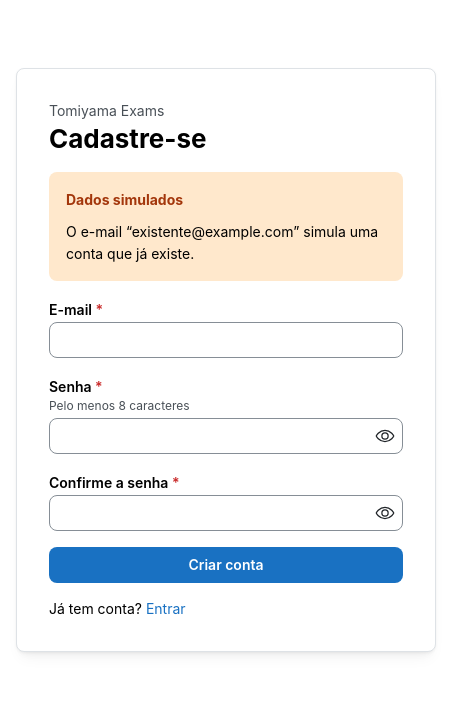
cadastro de responsável (§ 6.1): passo do e-mail e senha › valida {"email":"mae.example.com"} no cliente
This screenshot has width=453, height=724.
In the field labelled "E-mail *": (226, 340) [49,322,403,358], type "mae.example.com"
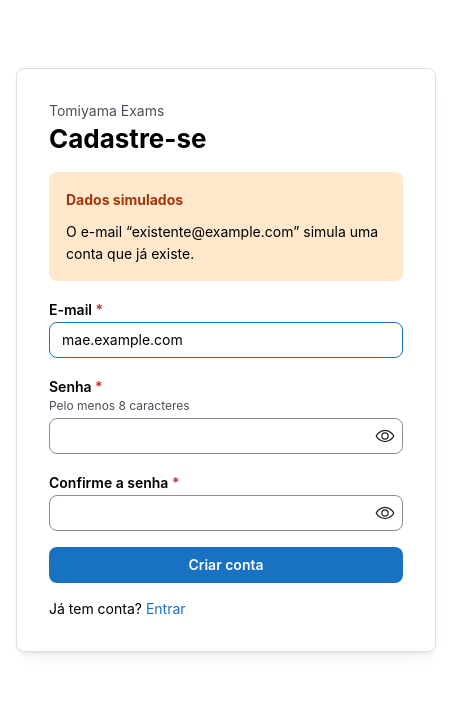
In the password field labelled "Senha *": (226, 436) [50,419,402,453], type "senha-forte-1"
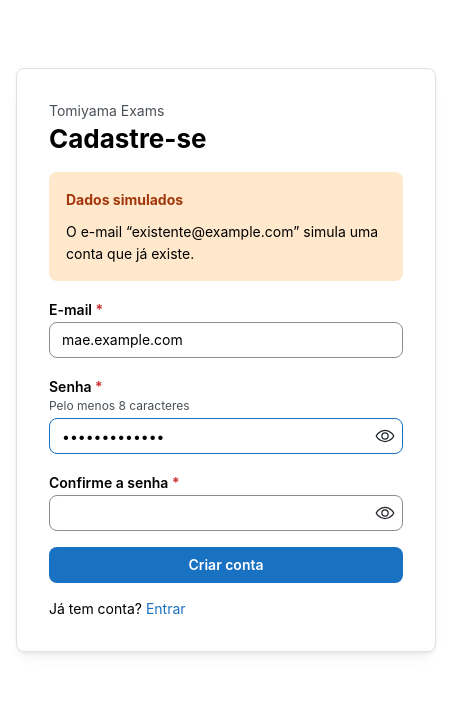
In the password field labelled "Confirme a senha *": (226, 513) [50,496,402,530], type "senha-forte-1"
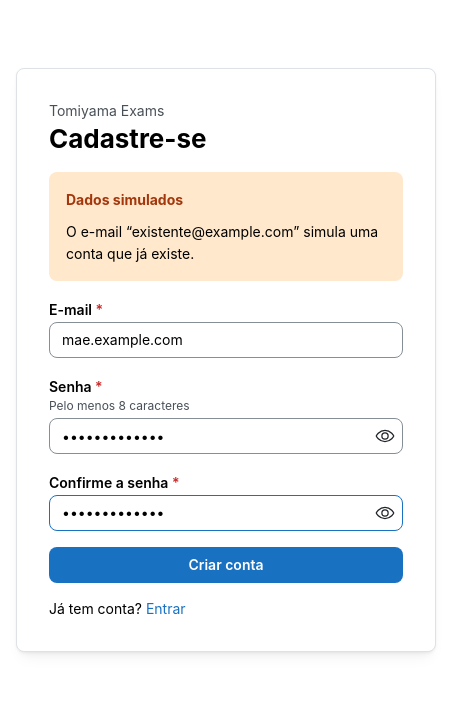
Click the button "Criar conta": (226, 565) [49,547,403,583]
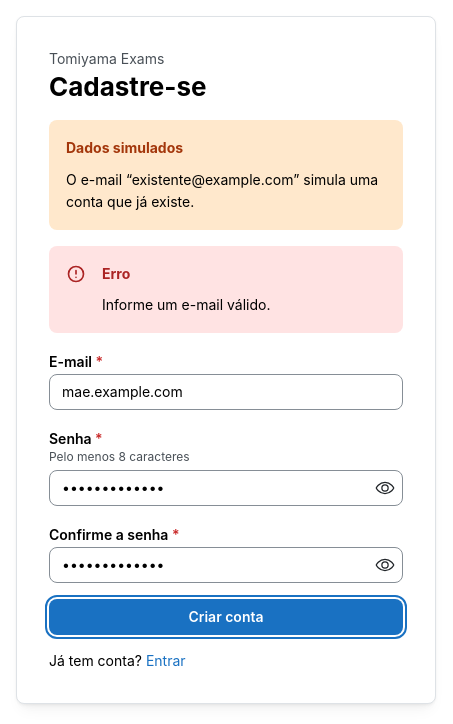
Expected: the heading "Cadastre-se" is shown, [49,71,207,102]
Expected: the message shows "Informe um e-mail válido.", [102,296,270,313]
